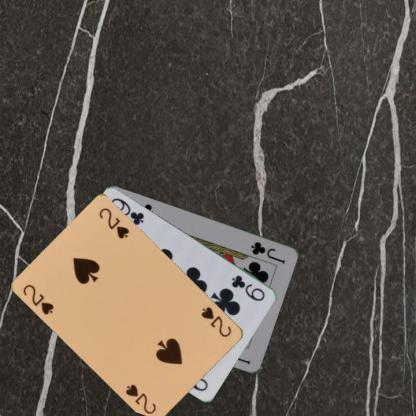2s: (21, 281, 55, 316), (199, 304, 233, 338)
9c: (229, 272, 267, 303)
Jc: (249, 239, 286, 265)
